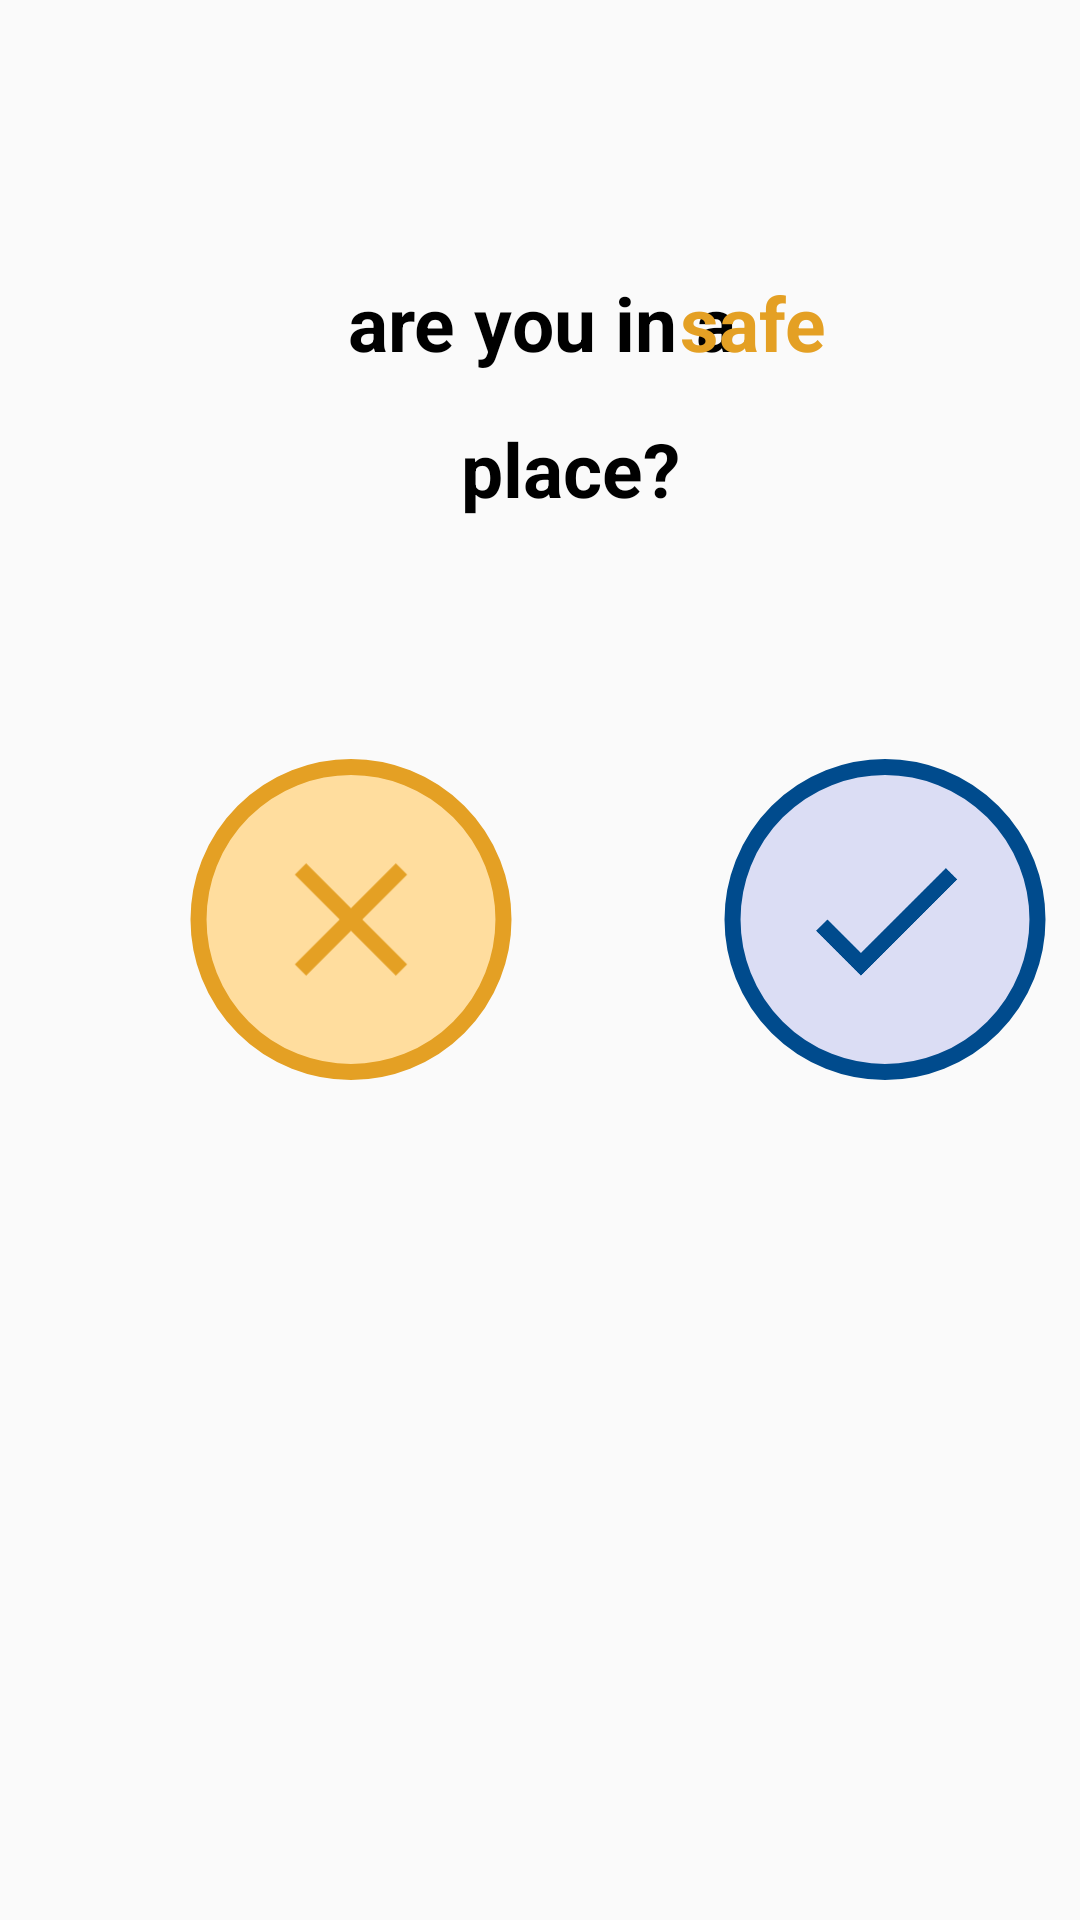

Icons on this 1080px×1920px Android screen, each with the point to tap as point (x, y):
close: point (351, 919)
tick: point (885, 919)
